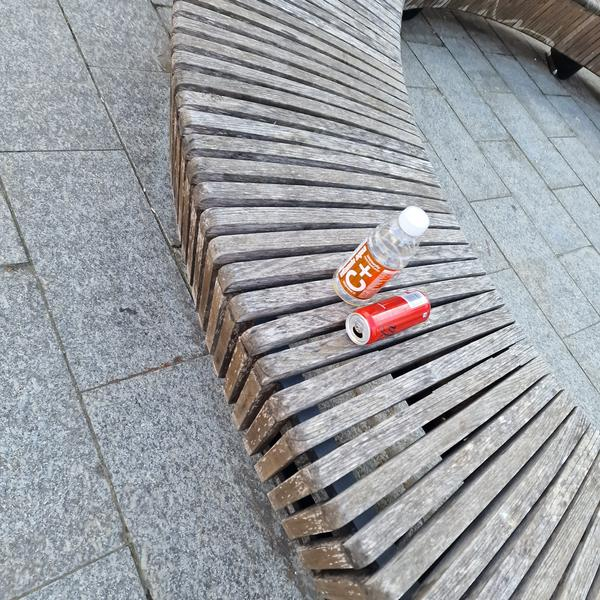can: (340, 284, 436, 350)
plastic_bottle: (325, 194, 440, 315)
